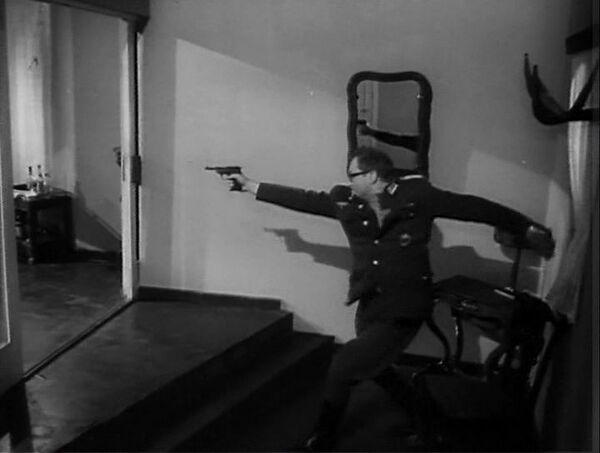Gun: (206, 165, 245, 191)
